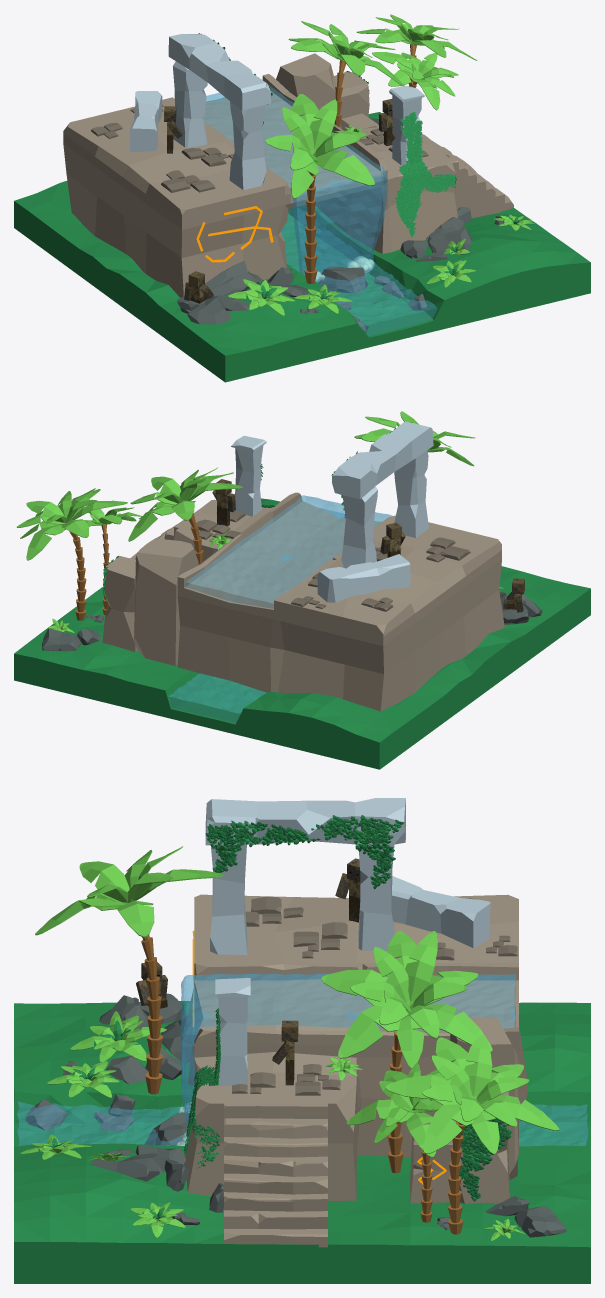
The model's file is ruins.glb.
3 renders of one model, top to bottom at view 1: azimuth 30°, elevation 25°; view 2: azimuth 150°, elevation 25°; view 3: azimuth 270°, elevation 25°, orthographic. The views are drawn at different scales.
Visible parts, largest first — view 1: ground, ruin, waterfall, water, pillar_top, pillar.002, pillar.003, stairs, boulder.002, pillar, pillar.001, Plane.025 (+12 smaller); view 2: ruin, ground, waterfall, boulder.002, pillar_top, pillar, water, boulder.001, pillar.002, pillar.003, pillar.001, palm (+3 smaller); view 3: ground, ruin, stairs, waterfall, water, pillar_top, pillar, pillar.002, pillar.001, pillar.003, palm.002, boulder.002 (+36 smaller).
Part boxes in pixels (x1,y1,x2,y2): ground: [14, 112, 590, 382]; ruin: [63, 74, 457, 297]; waterfall: [204, 85, 387, 282]; water: [281, 208, 437, 335]; pillar_top: [168, 34, 271, 110]; pillar.002: [229, 101, 266, 189]; pillar.003: [173, 61, 207, 147]; stairs: [421, 134, 513, 218]; boulder.002: [276, 53, 340, 126]; pillar: [130, 91, 162, 152]; pillar.001: [389, 86, 424, 165]; Plane.025: [312, 150, 374, 185]; ruin: [174, 492, 504, 711]; ground: [14, 498, 590, 769]; waterfall: [185, 495, 392, 608]; boulder.002: [134, 539, 198, 665]; pillar_top: [332, 421, 433, 499]; pillar: [317, 554, 410, 602]; water: [169, 673, 265, 722]; boulder.001: [102, 556, 137, 651]; pillar.002: [394, 450, 428, 537]; pillar.003: [341, 487, 377, 568]; pillar.001: [231, 435, 266, 516]; palm: [69, 531, 86, 620]; ground: [14, 1001, 590, 1283]; ruin: [184, 894, 528, 1200]; stairs: [224, 1103, 327, 1247]; waterfall: [180, 973, 515, 1127]; water: [17, 1102, 588, 1146]; pillar_top: [205, 798, 406, 845]; pillar: [391, 876, 490, 948]; pillar.002: [210, 844, 247, 954]; pillar.001: [215, 978, 250, 1085]; pillar.003: [358, 844, 394, 950]; palm.002: [133, 900, 162, 1094]; boulder.002: [450, 1017, 517, 1179].
Size of what is drawn, in the model's own units: 8.81 by 4.63 by 8.
